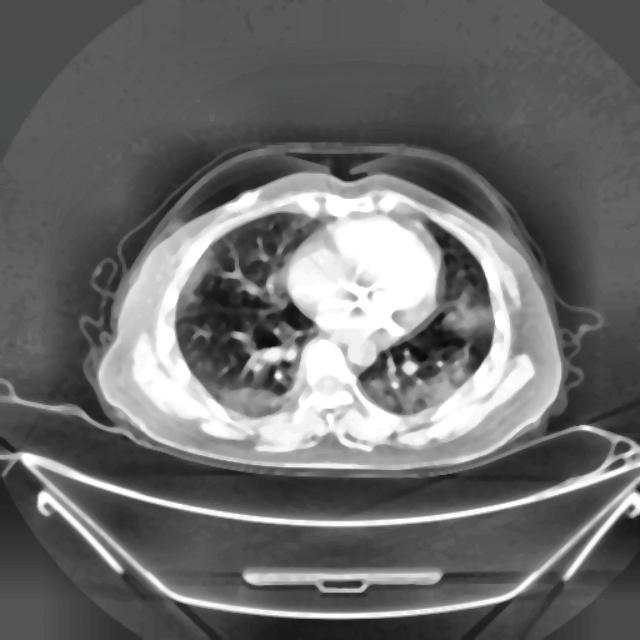covid: (83, 143, 574, 477)
